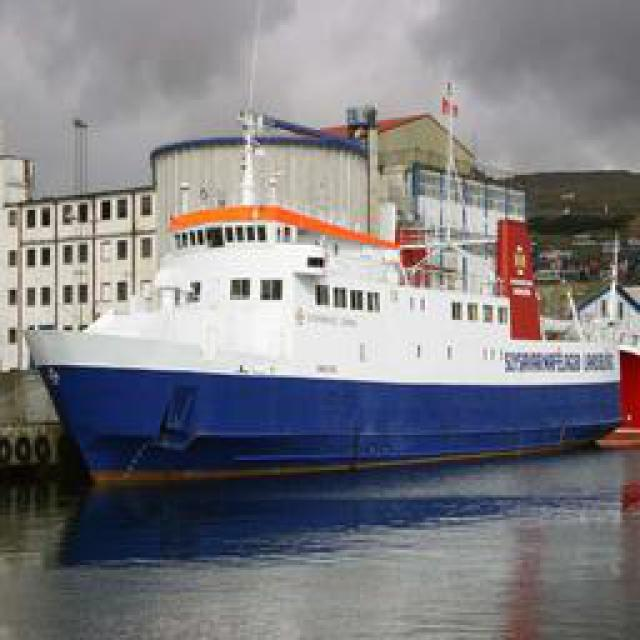Ship: (29, 72, 624, 485)
